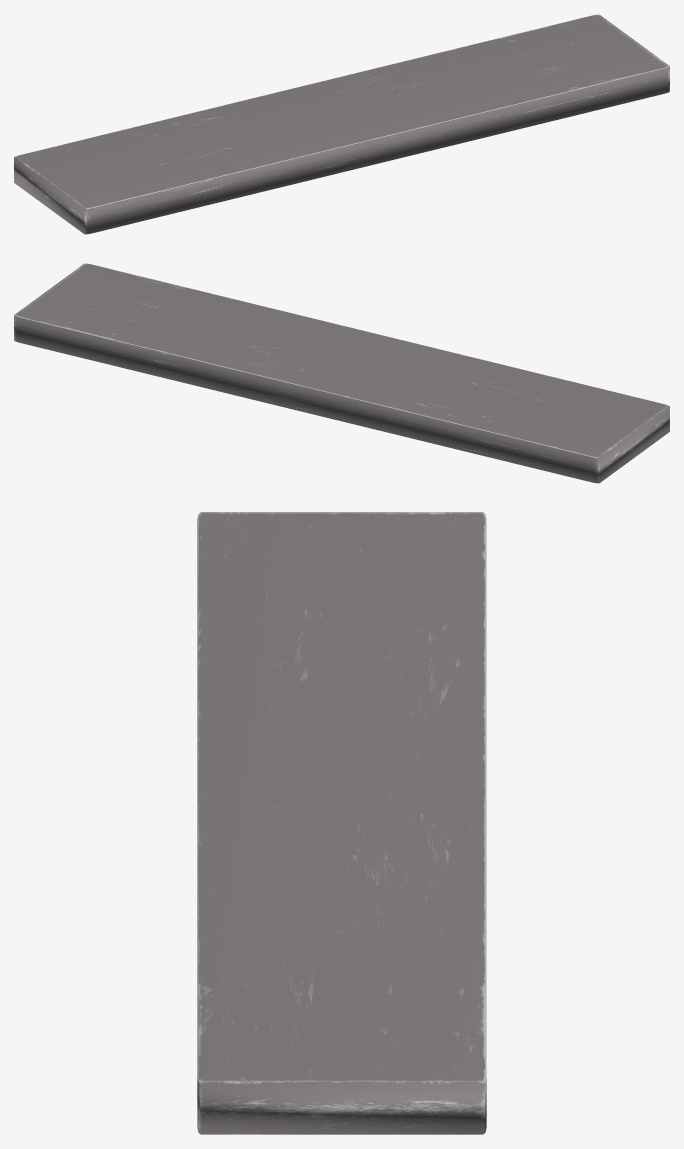
File: lamp_on_top1.fbx
3 views of the same model, one above another, from view 1: azimuth 30°, elevation 25°; view 2: azimuth 150°, elevation 25°; view 3: azimuth 270°, elevation 25° (orthographic). The views are drawn at different scales.
Visible parts, largest first — view 1: Cube; view 2: Cube; view 3: Cube.
Part boxes in pixels (x1,y1,x2,y2): Cube: (14,14,669,234); Cube: (14,263,669,483); Cube: (197,512,486,1134).
Size of the model in its own units: 3554 by 151 by 760.
Materials: 2 (2 with a texture image).
